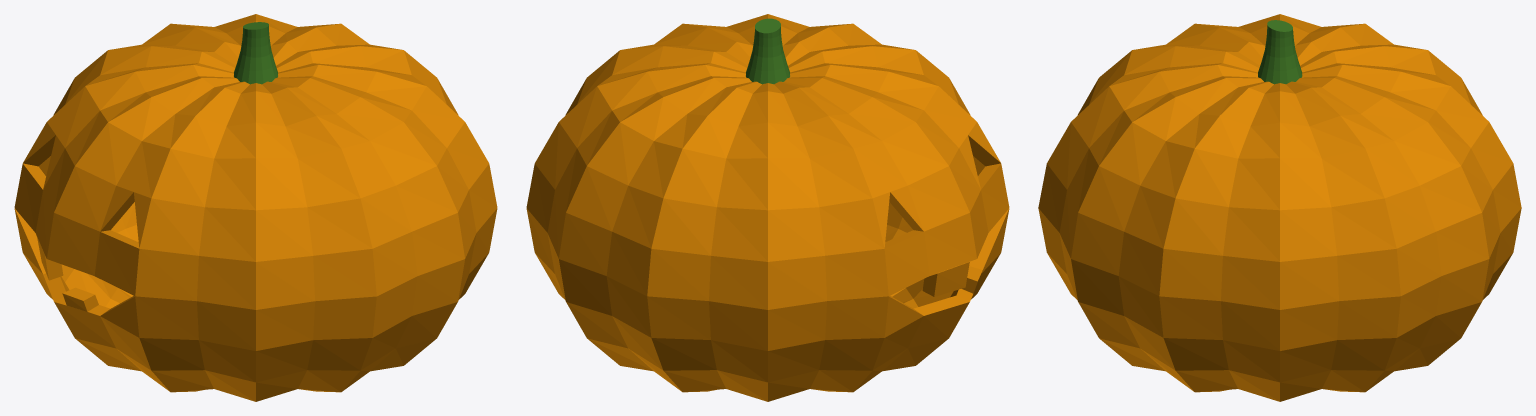
Rendered from pumpkin_2189104c.glb.
3 renders of one model, left to right at view 1: azimuth 30°, elevation 25°; view 2: azimuth 150°, elevation 25°; view 3: azimuth 270°, elevation 25°, orthographic.
Parts seen in each view (by area): view 1: Sphere004_02 - Default_0, Sphere004_01 - Default_0; view 2: Sphere004_02 - Default_0, Sphere004_01 - Default_0; view 3: Sphere004_02 - Default_0, Sphere004_01 - Default_0.
Boxes of the visible parts, bbox=[...] form: Sphere004_02 - Default_0: bbox=[14, 14, 497, 401]; Sphere004_01 - Default_0: bbox=[234, 22, 277, 84]; Sphere004_02 - Default_0: bbox=[526, 14, 1009, 401]; Sphere004_01 - Default_0: bbox=[746, 18, 789, 84]; Sphere004_02 - Default_0: bbox=[1038, 14, 1521, 401]; Sphere004_01 - Default_0: bbox=[1258, 20, 1302, 84].
Size of the model in its own units: 199 by 152 by 199.
